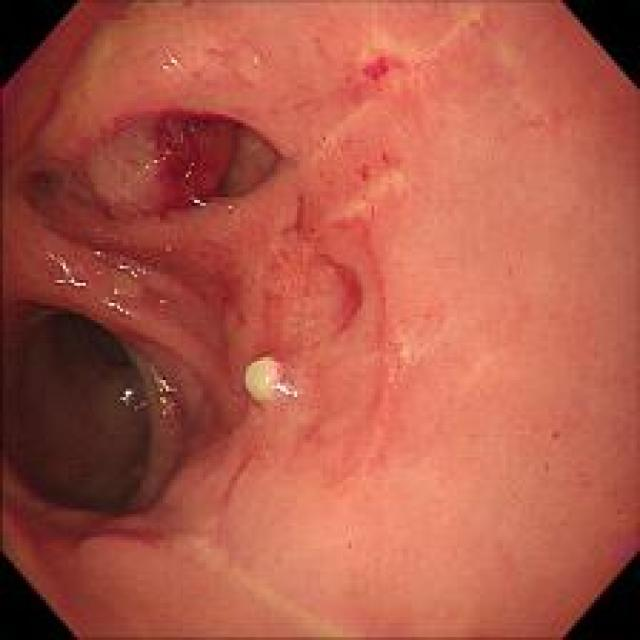blood: (140, 109, 219, 210)
color misalignment: (95, 245, 149, 319), (120, 372, 178, 416), (48, 250, 86, 294), (170, 125, 199, 181), (132, 158, 165, 174)
contrast: (9, 308, 152, 511)
specularity: (90, 236, 170, 328), (41, 246, 96, 296), (150, 50, 192, 90), (271, 382, 305, 398), (188, 195, 211, 210)
